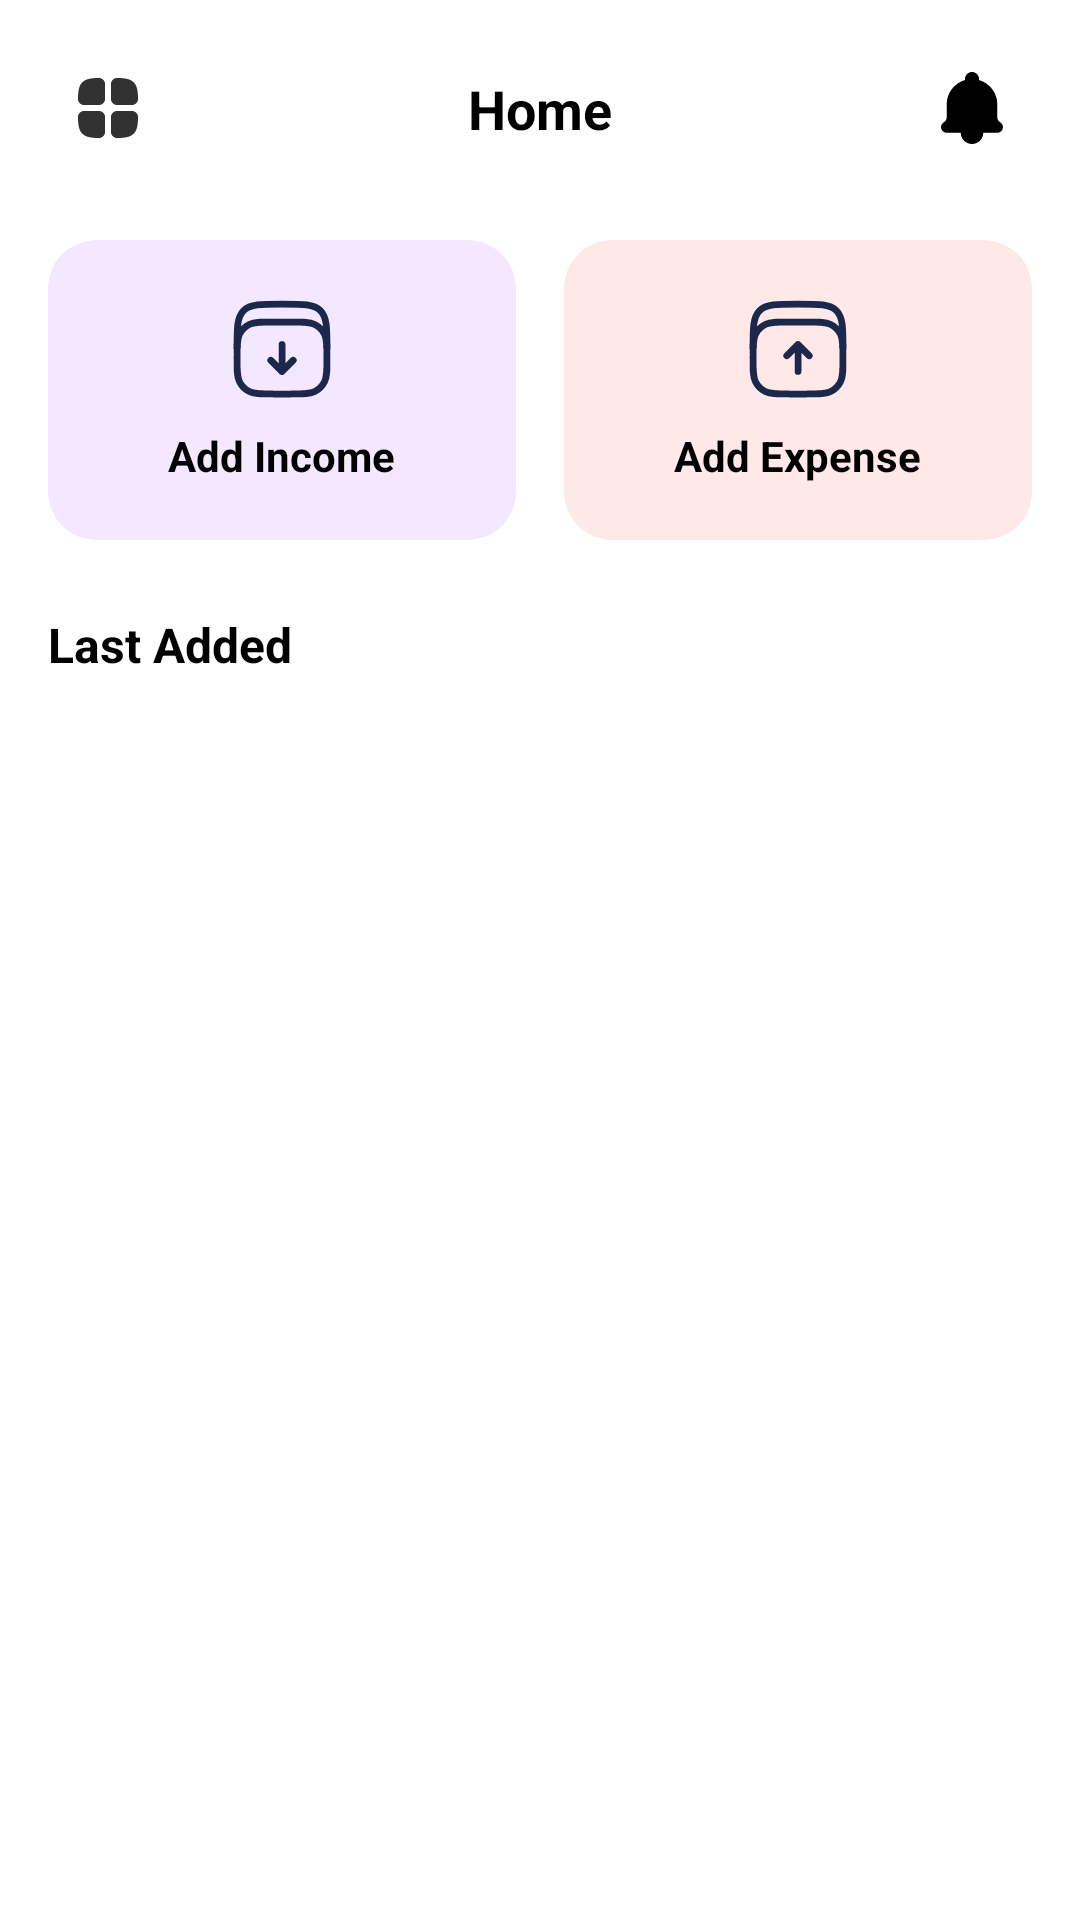

Icon click points for this 1080 x 1920 phone screenshot, format (x=x, y=y):
grid: (x=108, y=108)
notifications: (x=972, y=108)
